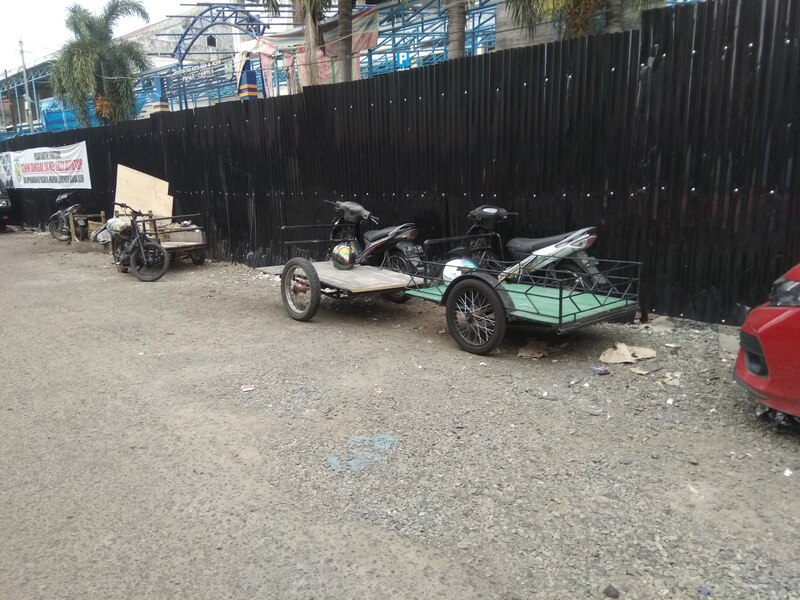becak barang: (404, 202, 647, 362), (252, 190, 436, 325), (103, 196, 211, 287)
